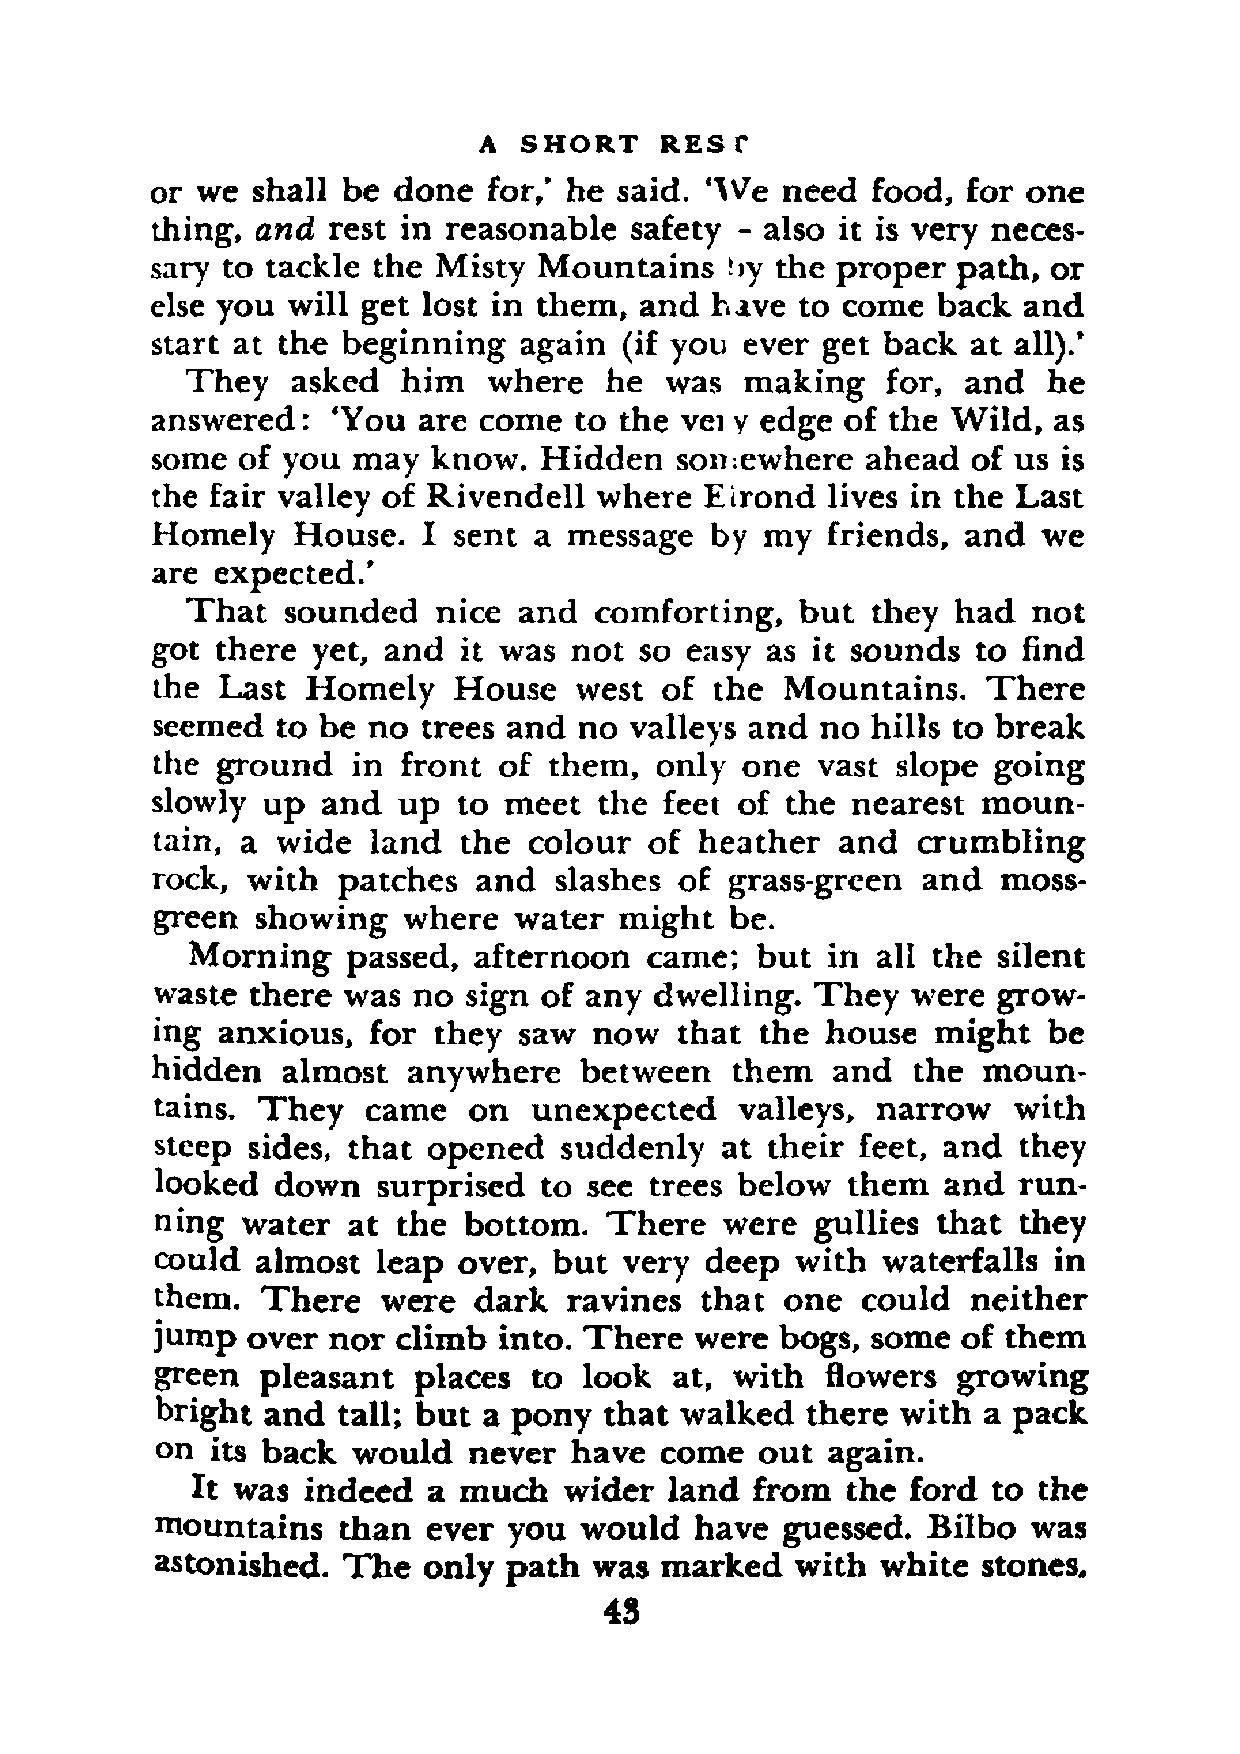chapter: (471, 127, 754, 156)
content: (144, 172, 1094, 1588)
content_pagenumber: (601, 1596, 641, 1622)
